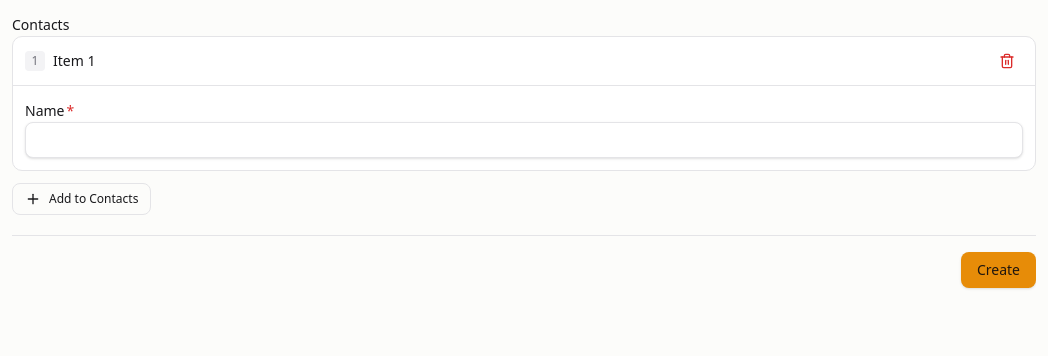
Test: validation feedback › clears the item issues once the form is valid
This screenshot has width=1048, height=356.
Click the button "Create" at (998, 270), box [961, 252, 1036, 288]
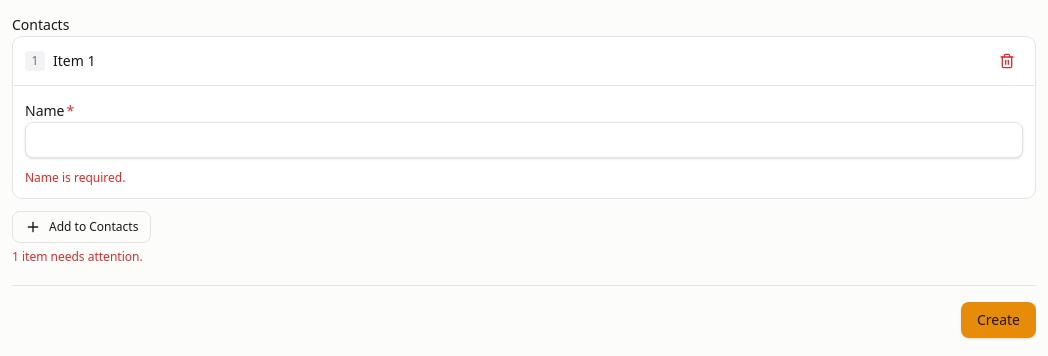
Expected: the list item "Name is required." is shown, [25, 169, 125, 186]
Type "Ada" into the field labelled "Name" at (524, 140), box [25, 122, 1023, 158]
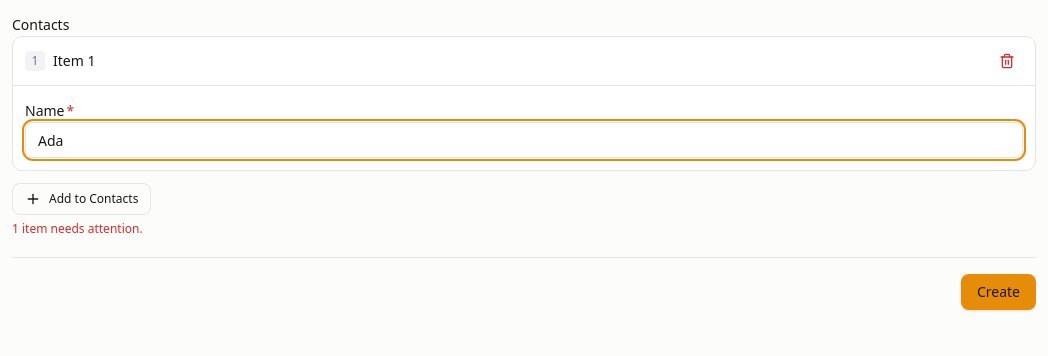
Expected: the list item "Name is required." is gone
